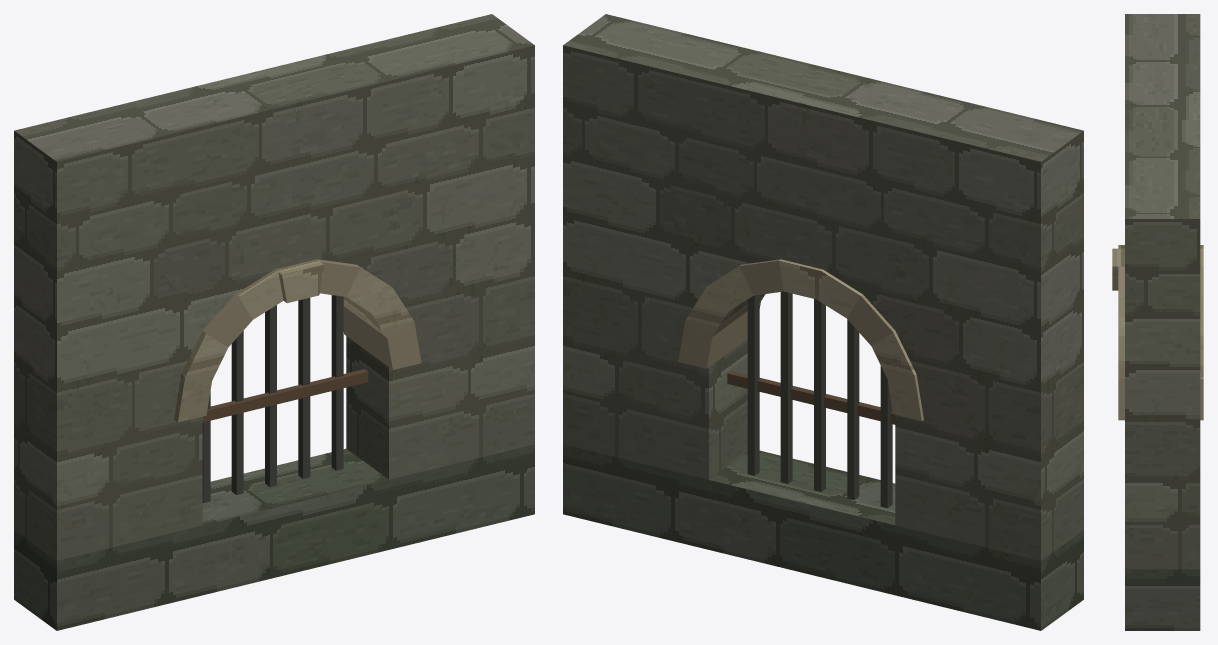
Rendered from arched_wall_drain.glb.
The picture shows the model from 3 angles, left to right: view 1: azimuth 30°, elevation 25°; view 2: azimuth 150°, elevation 25°; view 3: azimuth 270°, elevation 25°; orthographic projection. The views are drawn at different scales.
Visible parts, largest first — view 1: Arched wall drain; view 2: Arched wall drain; view 3: Arched wall drain.
Boxes of the visible parts, x1,y1,x2,y2 form: Arched wall drain: (14,14,534,630); Arched wall drain: (563,14,1083,630); Arched wall drain: (1112,14,1203,630).
Bounding box in the file's own units: 2 × 1.88 × 0.378.
Materials: 6 (3 with a texture image).
